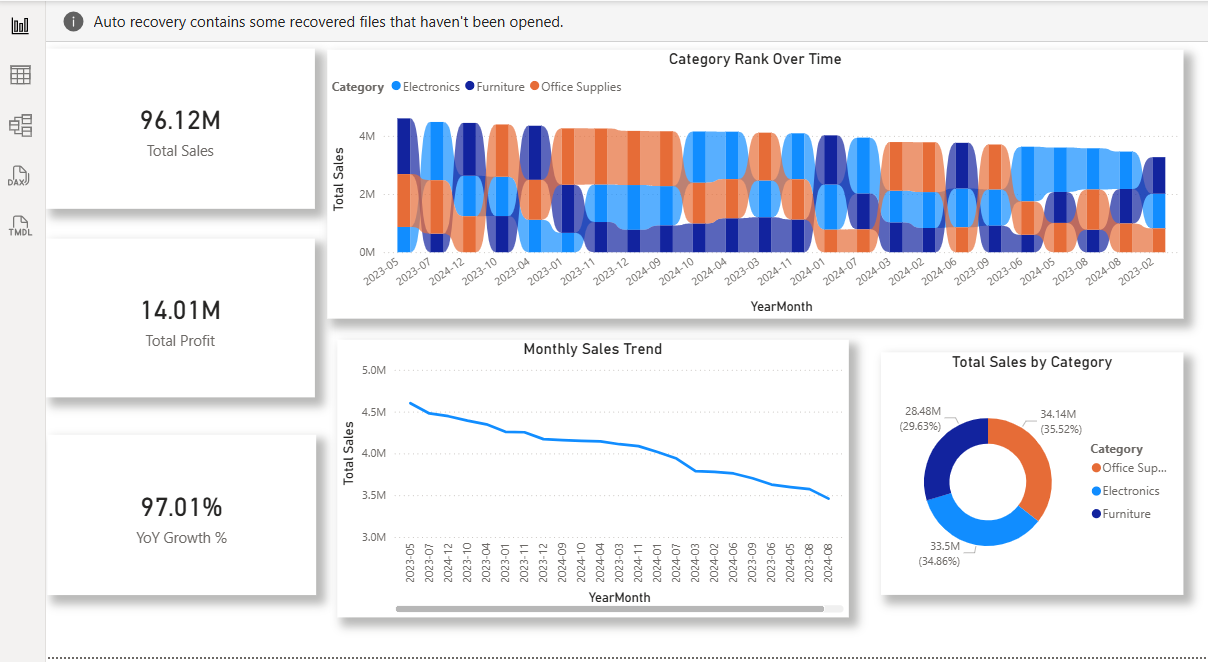

This screenshot's page, from the dashboard's own definition file:
{"tool":"powerbi","page":{"name":"Executive Dashboard","canvas":[1280,720],"ordinal":0},"visuals":[{"type":"card","fields":{"Values":["FactSales.Total Sales"]},"box":[0,52.1,295,175.6],"z":0},{"type":"card","fields":{"Values":["FactSales.Total Profit"]},"box":[0,260.7,295,174.3],"z":1000},{"type":"card","fields":{"Values":["FactSales.YoY Growth %"]},"box":[1.4,476.2,295,175.6],"z":2000},{"type":"donutChart","fields":{"Category":["FactSales.Category"],"Y":["FactSales.Total Sales"]},"box":[916.6,385.6,332.1,266.2],"z":3000},{"type":"ribbonChart","title":"Category Rank Over Time","fields":{"Category":["DimDate.YearMonth"],"Series":["FactSales.Category"],"Y":["FactSales.Total Sales"]},"box":[308.7,53.5,940,295],"z":4000},{"type":"lineChart","title":"Monthly Sales Trend","fields":{"Category":["DimDate.YearMonth"],"Y":["FactSales.Total Sales"]},"box":[319.7,371.9,561.2,304.6],"z":5000}]}

Visuals, with their boxes on the page's 1280x720 design canvas (x1, y1, x2, y2). These are canvas units, not pixel positions in the 1208x662 screenshot, which may show the page scaled, cropped or inside an application window:
card - FactSales.Total Sales: bbox=(0, 52, 295, 228)
card - FactSales.Total Profit: bbox=(0, 261, 295, 435)
card - FactSales.YoY Growth %: bbox=(1, 476, 296, 652)
donutChart - FactSales.Category x FactSales.Total Sales: bbox=(917, 386, 1249, 652)
"Category Rank Over Time" ribbonChart: bbox=(309, 54, 1249, 348)
"Monthly Sales Trend" lineChart: bbox=(320, 372, 881, 676)
